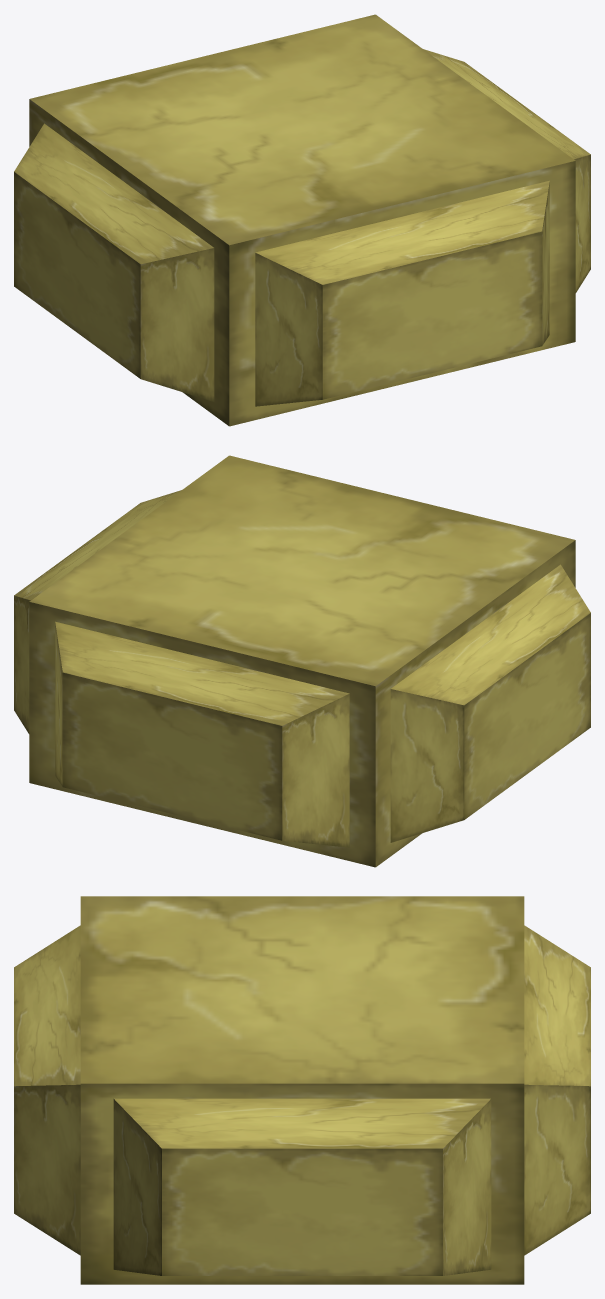
The model's file is Single Cube 16.fbx.
The picture shows the model from 3 angles, top to bottom: view 1: azimuth 30°, elevation 25°; view 2: azimuth 150°, elevation 25°; view 3: azimuth 270°, elevation 25°; orthographic projection. The views are drawn at different scales.
Visible parts, largest first — view 1: Single Cube 16; view 2: Single Cube 16; view 3: Single Cube 16.
Part boxes in pixels (bbox=[...]): Single Cube 16: bbox=[14, 14, 590, 426]; Single Cube 16: bbox=[14, 455, 590, 867]; Single Cube 16: bbox=[14, 896, 590, 1284].
Size of the model in its own units: 2.6 by 1 by 2.6.
